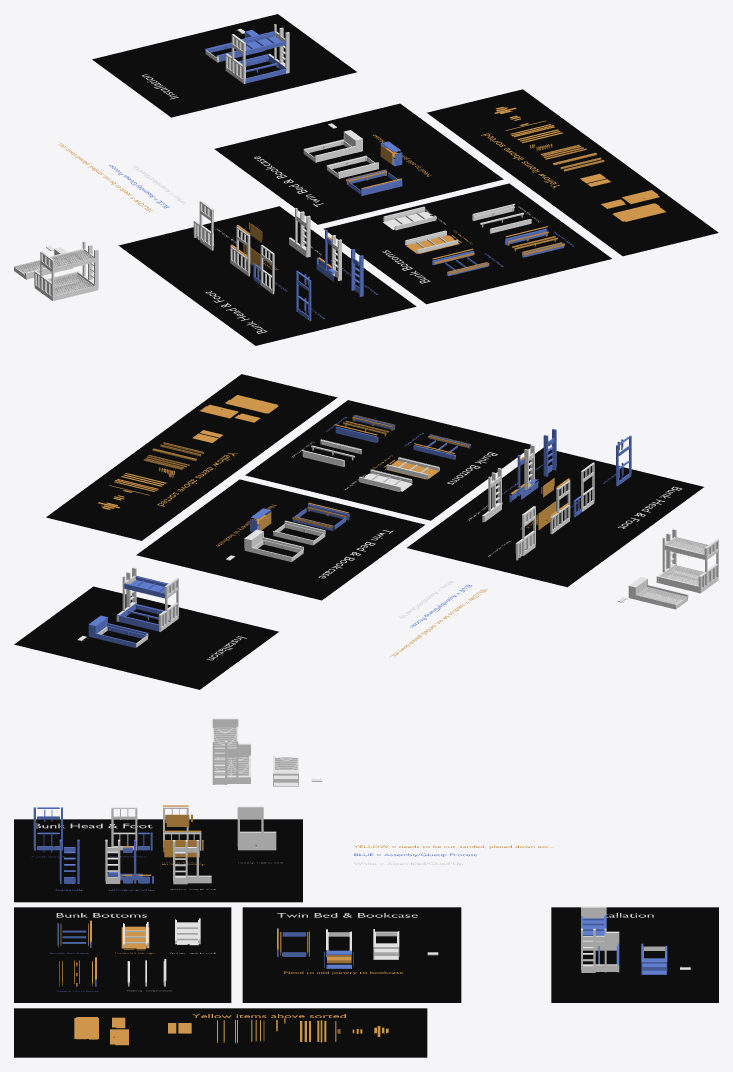
File: plan.glb
3 renders of one model, top to bottom at view 1: azimuth 30°, elevation 25°; view 2: azimuth 150°, elevation 25°; view 3: azimuth 270°, elevation 25°, orthographic. The views are drawn at different scales.
Visible parts, largest first — view 1: Plane, Plane.003, Plane.002, Plane.001, Plane.004, twin-platform-bottom.007; view 2: Plane, Plane.003, Plane.002, Plane.001, Plane.004, twin-platform-bottom.007; view 3: Plane, Plane.002, Plane.001, Plane.003, Plane.004, queen-head.114, twin-platform-bottom.007.
Part boxes in pixels (x1=…): Plane: x1=118, y1=206, x2=416, y2=345; Plane.003: x1=427, y1=89, x2=718, y2=256; Plane.002: x1=214, y1=103, x2=503, y2=224; Plane.001: x1=323, y1=183, x2=611, y2=304; Plane.004: x1=92, y1=14, x2=356, y2=117; twin-platform-bottom.007: x1=612, y1=203, x2=665, y2=221; Plane: x1=407, y1=448, x2=703, y2=587; Plane.003: x1=46, y1=374, x2=337, y2=540; Plane.002: x1=136, y1=479, x2=424, y2=600; Plane.001: x1=245, y1=400, x2=530, y2=520; Plane.004: x1=14, y1=586, x2=278, y2=689; twin-platform-bottom.007: x1=225, y1=395, x2=278, y2=413; Plane: x1=14, y1=819, x2=302, y2=902; Plane.002: x1=242, y1=907, x2=461, y2=1002; Plane.001: x1=14, y1=907, x2=231, y2=1002; Plane.003: x1=14, y1=1008, x2=427, y2=1057; Plane.004: x1=551, y1=907, x2=718, y2=1002; queen-head.114: x1=237, y1=833, x2=274, y2=850; twin-platform-bottom.007: x1=74, y1=1017, x2=98, y2=1039.
Size of the model in its own units: 29.45 by 2.18 by 29.83.
